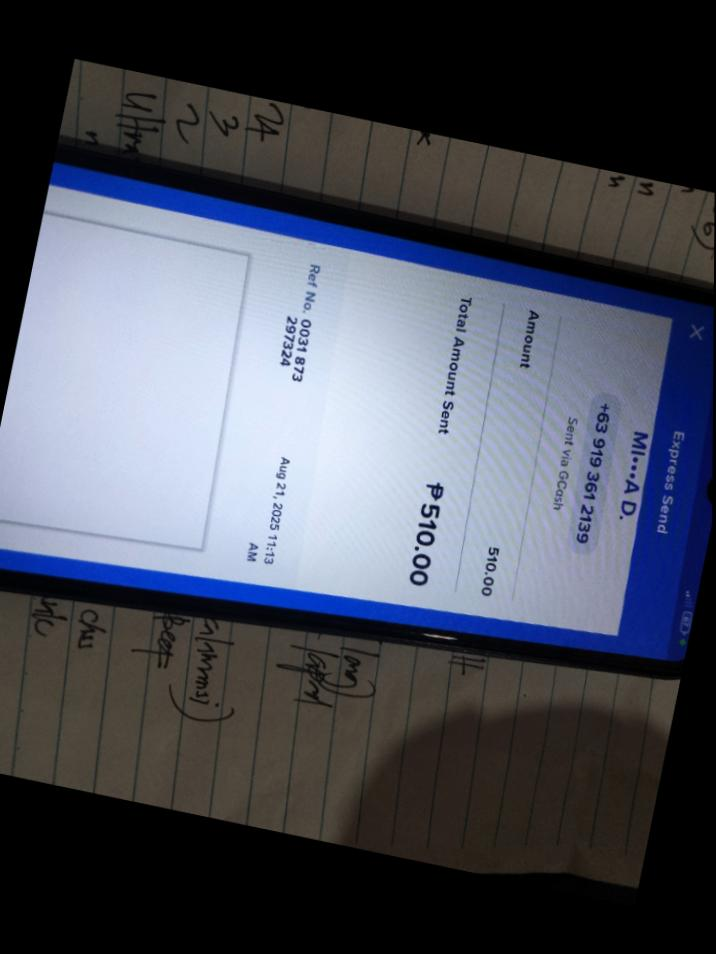Receipt: (0, 162, 714, 658)
